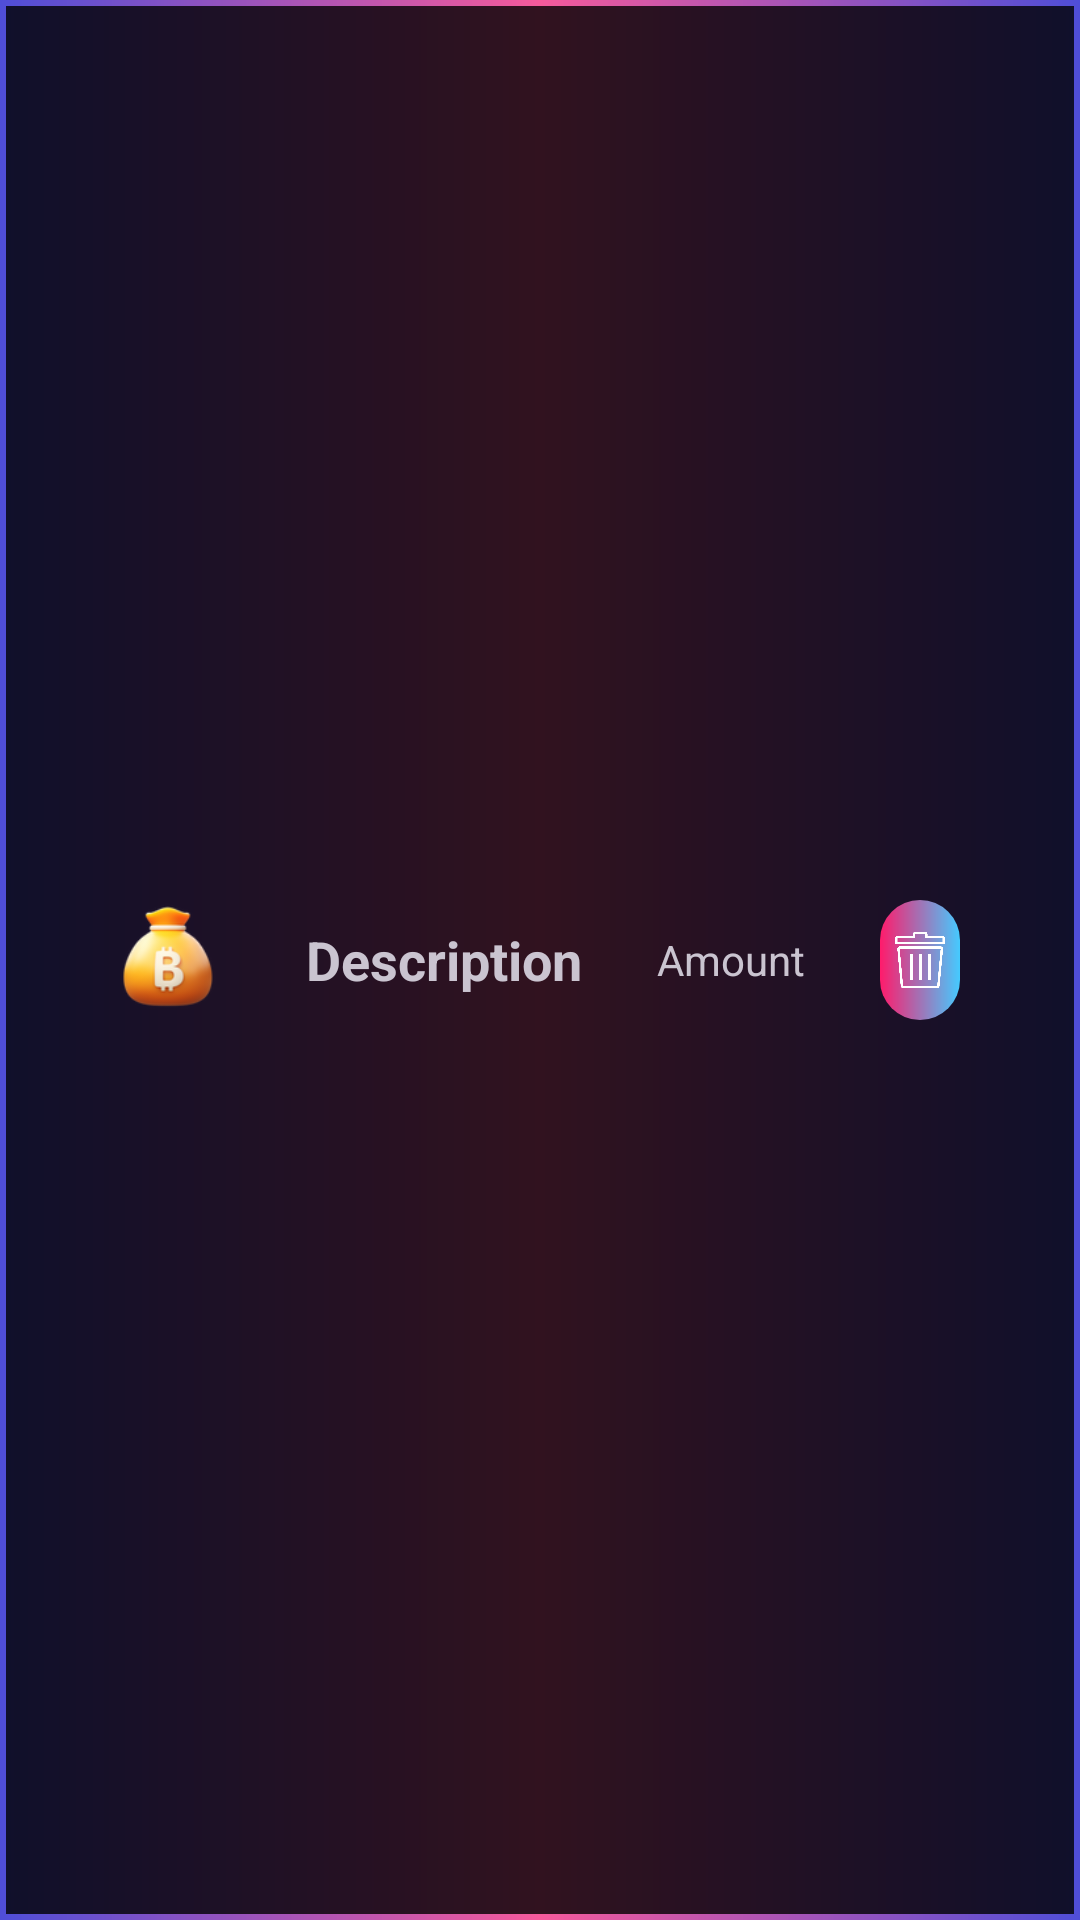

Screen size 1080px x 1920px. Icon name, then its box in pixels as (x1, y1, x2, y2):
bin: (880, 900, 960, 1020)
crypto: (123, 906, 213, 1006)
